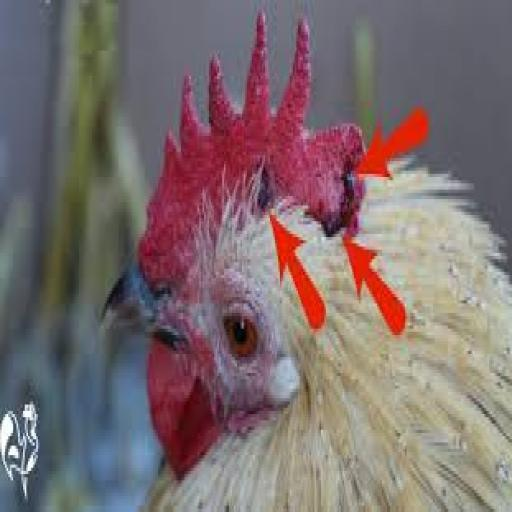disease: (319, 138, 358, 234), (243, 142, 280, 218)
